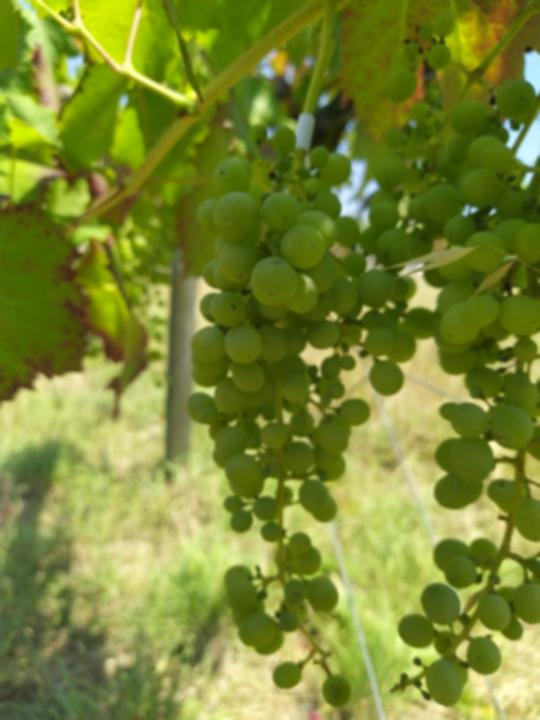grape: (185, 123, 435, 707)
